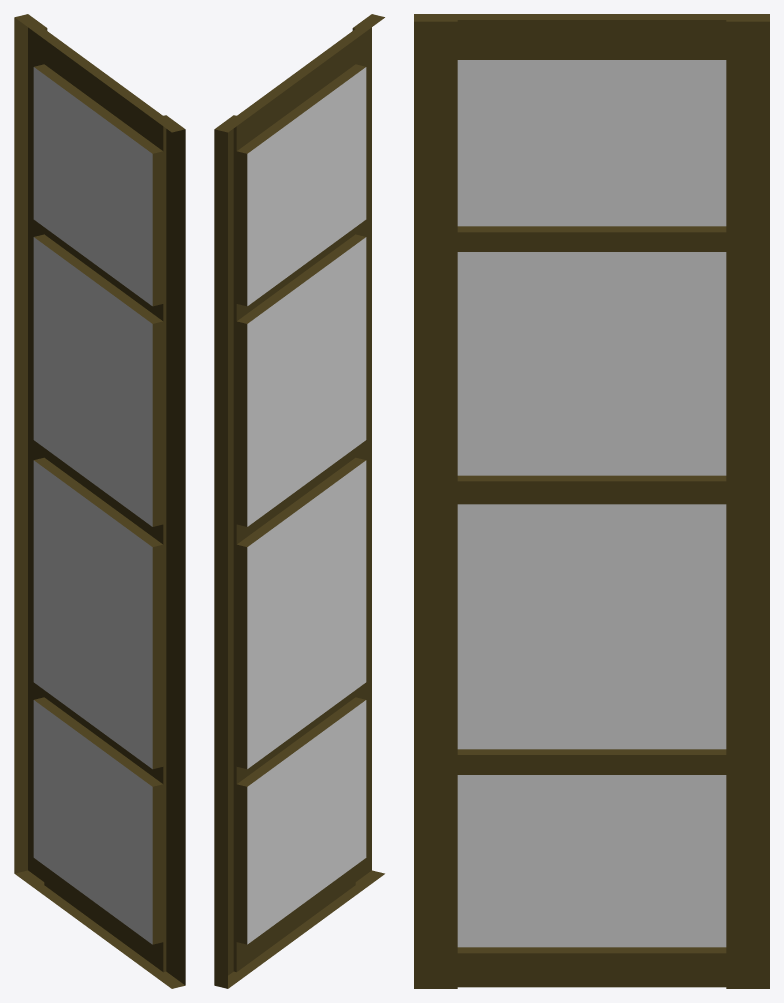
Rendered from GB_Wall_3Stripe_1M_V1.fbx.
The picture shows the model from 3 angles, left to right: view 1: azimuth 30°, elevation 25°; view 2: azimuth 150°, elevation 25°; view 3: azimuth 270°, elevation 25°; orthographic projection. The views are drawn at different scales.
Visible parts, largest first — view 1: HalfWall_Plaster20; view 2: HalfWall_Plaster20; view 3: HalfWall_Plaster20.
Boxes of the visible parts, x1,y1,x2,y2 form: HalfWall_Plaster20: [14, 14, 185, 988]; HalfWall_Plaster20: [214, 14, 384, 988]; HalfWall_Plaster20: [414, 14, 769, 988].
Bounding box in the file's own units: 0.05 × 3 × 1.
